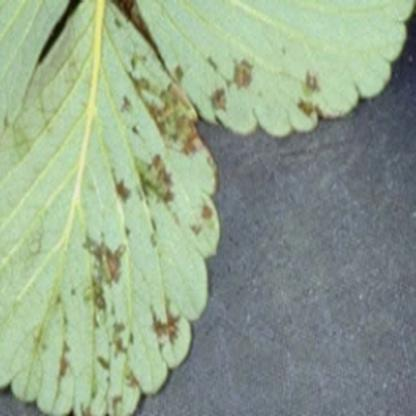Strawberry_Angular_LeafSpot: (0, 0, 222, 416), (113, 0, 415, 138)
